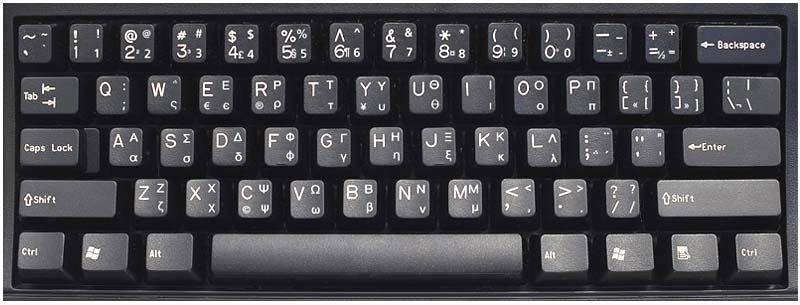keyboard: (1, 3, 800, 301)
